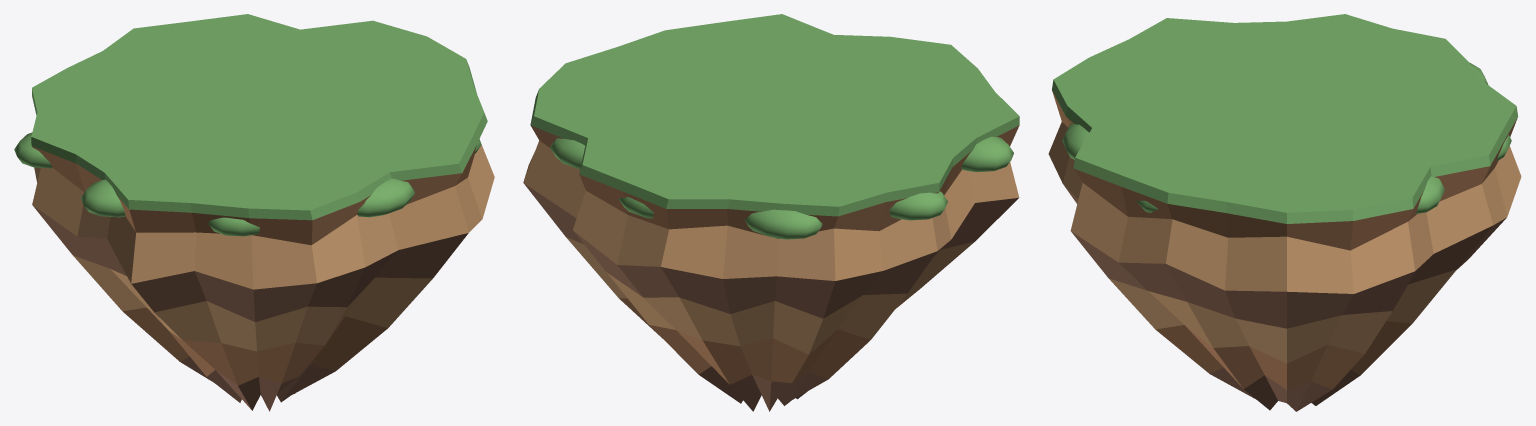
The model's file is island.glb.
The picture shows the model from 3 angles, left to right: view 1: azimuth 30°, elevation 25°; view 2: azimuth 150°, elevation 25°; view 3: azimuth 270°, elevation 25°; orthographic projection.
Parts seen in each view (by area): view 1: island_Rich meadow turf, island_Cliff sunlit stone, island_Cliff warm strata, island_Cliff shadow seams; view 2: island_Rich meadow turf, island_Cliff sunlit stone, island_Cliff shadow seams, island_Cliff warm strata; view 3: island_Rich meadow turf, island_Cliff sunlit stone, island_Cliff warm strata, island_Cliff shadow seams.
Part boxes in pixels (bbox=[...]): island_Rich meadow turf: bbox=[14, 14, 487, 236]; island_Cliff sunlit stone: bbox=[32, 145, 494, 351]; island_Cliff warm strata: bbox=[32, 145, 476, 385]; island_Cliff shadow seams: bbox=[32, 205, 468, 411]; island_Rich meadow turf: bbox=[530, 14, 1019, 239]; island_Cliff sunlit stone: bbox=[523, 140, 1019, 354]; island_Cliff shadow seams: bbox=[524, 183, 1018, 411]; island_Cliff warm strata: bbox=[530, 125, 1019, 384]; island_Rich meadow turf: bbox=[1052, 14, 1518, 223]; island_Cliff sunlit stone: bbox=[1048, 122, 1521, 363]; island_Cliff warm strata: bbox=[1052, 90, 1517, 389]; island_Cliff shadow seams: bbox=[1064, 185, 1506, 411].
Size of the model in its own units: 30.35 by 19.68 by 29.07.
